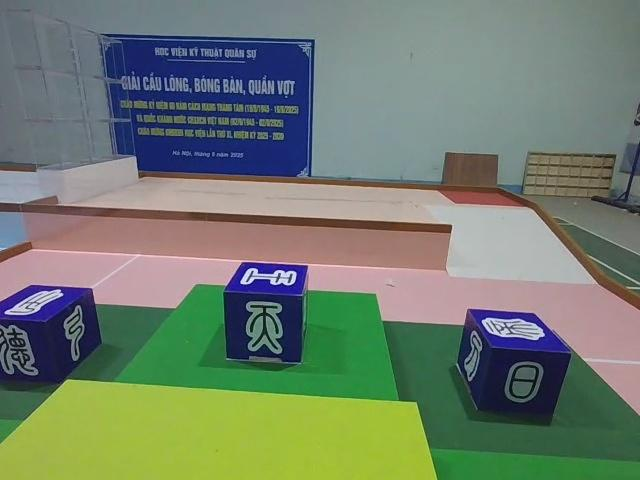R2 Fake Blue: (455, 311, 570, 425), (2, 285, 104, 386), (223, 263, 311, 368)
